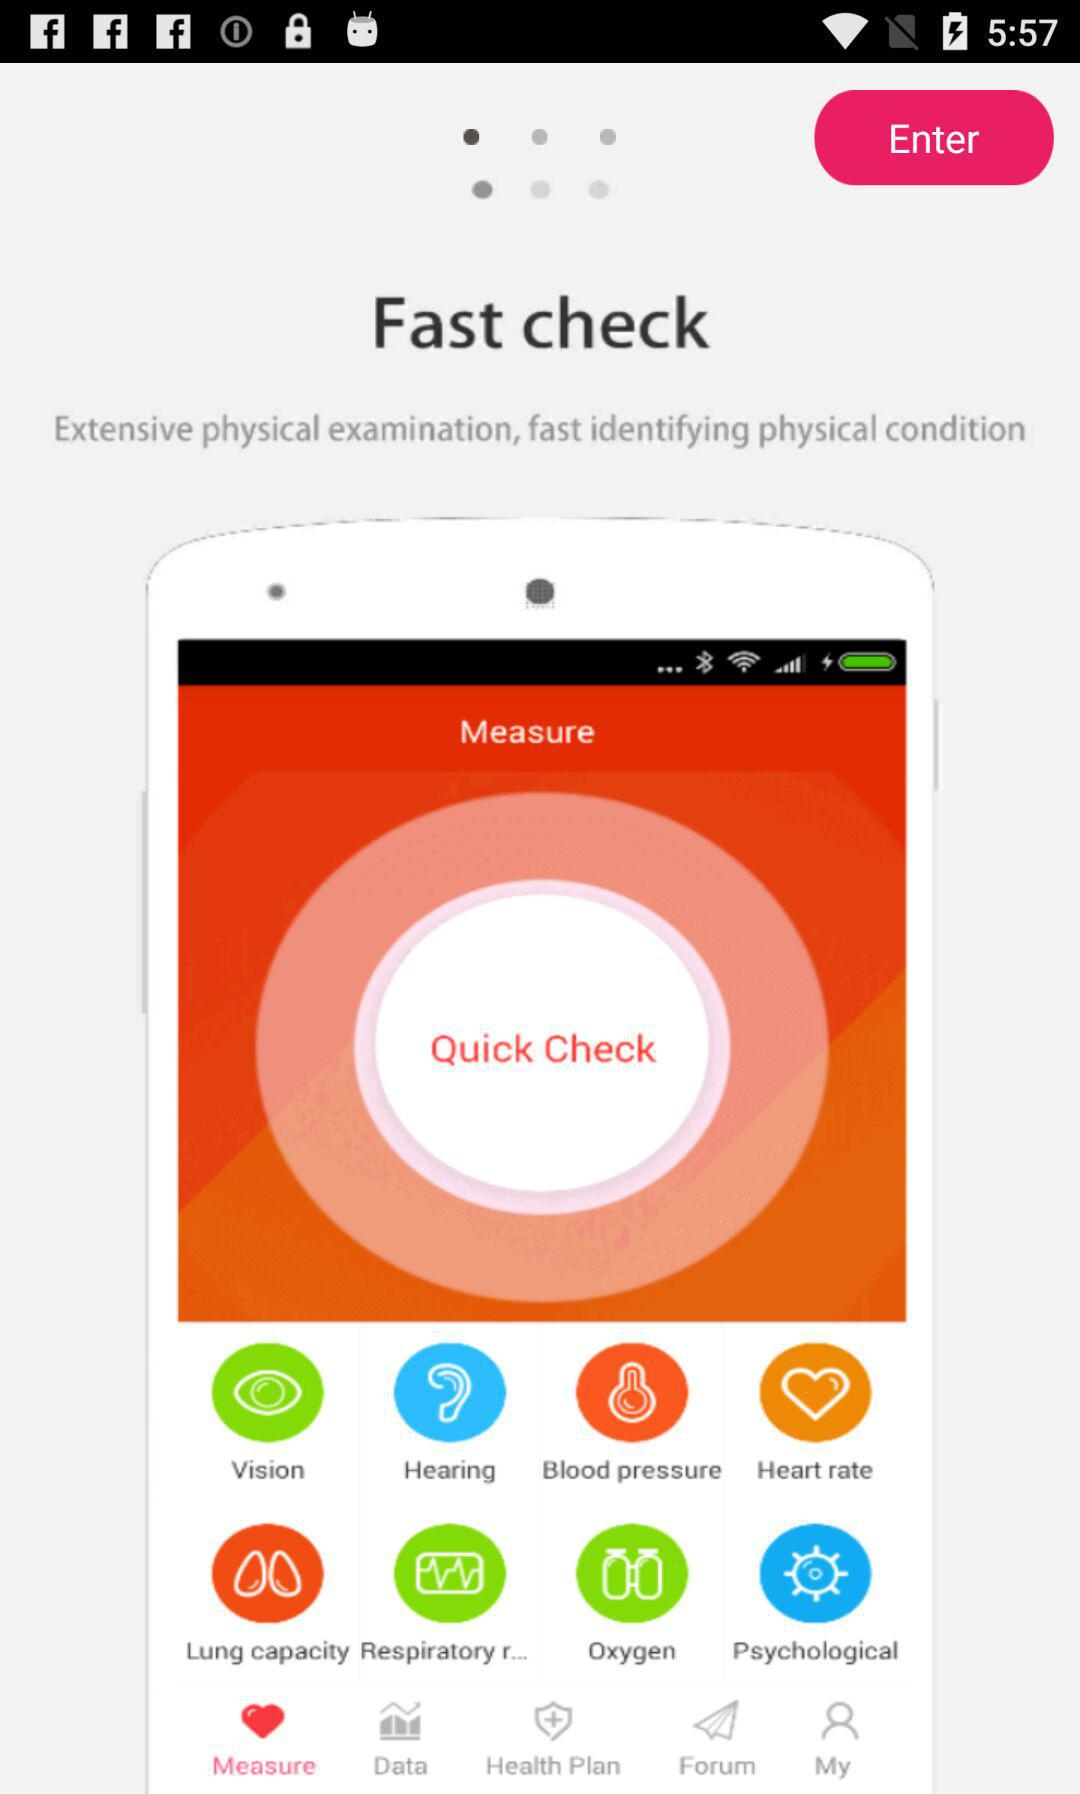Image: (143, 515, 937, 1794)
PageIndicator: (471, 179, 610, 202), (462, 128, 618, 147)
Text: (55, 413, 1026, 451), (375, 295, 711, 351)
TextButton: (814, 90, 1054, 187)
UpperTaskBar: (1, 1, 1080, 64)
